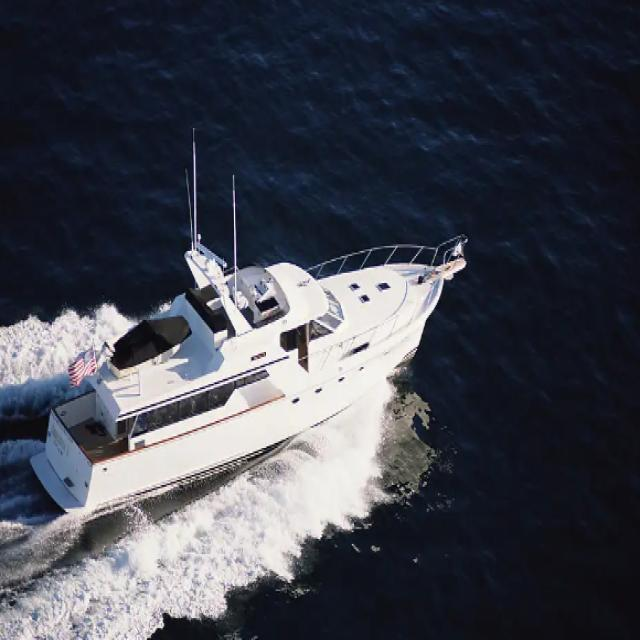houseboat: (22, 146, 472, 546)
